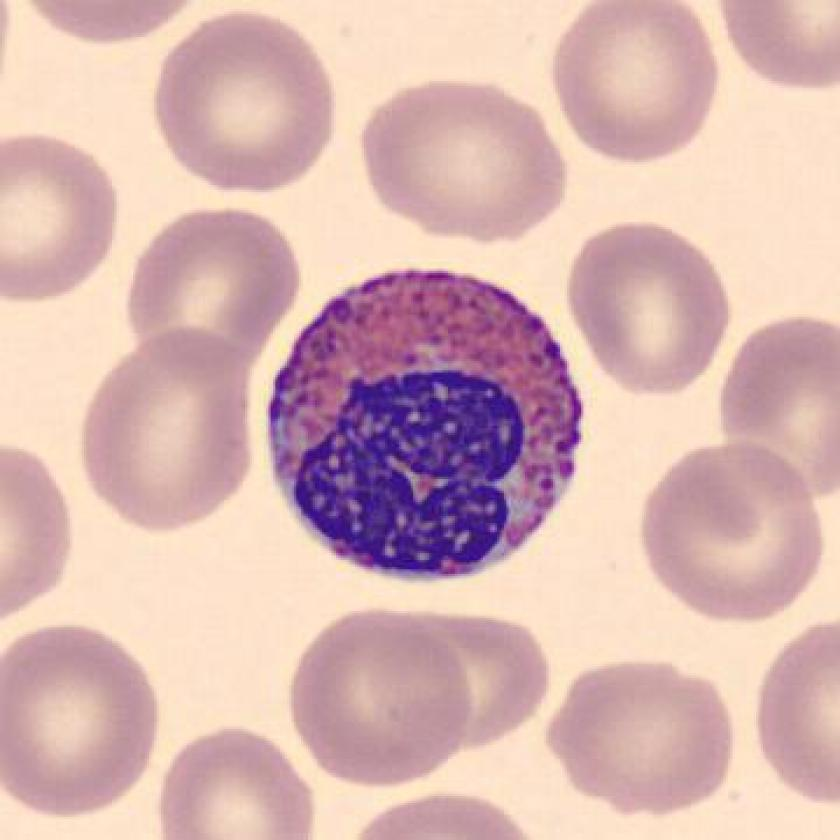eosinophil: (255, 251, 594, 591)
